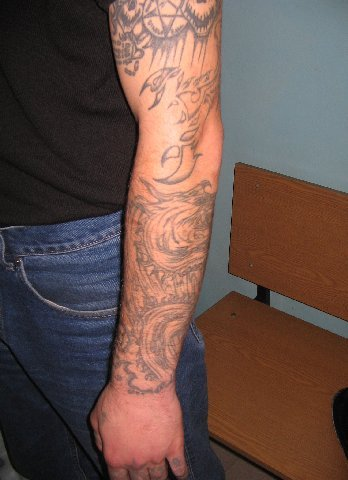tatu6_drakon: (125, 176, 217, 416)
